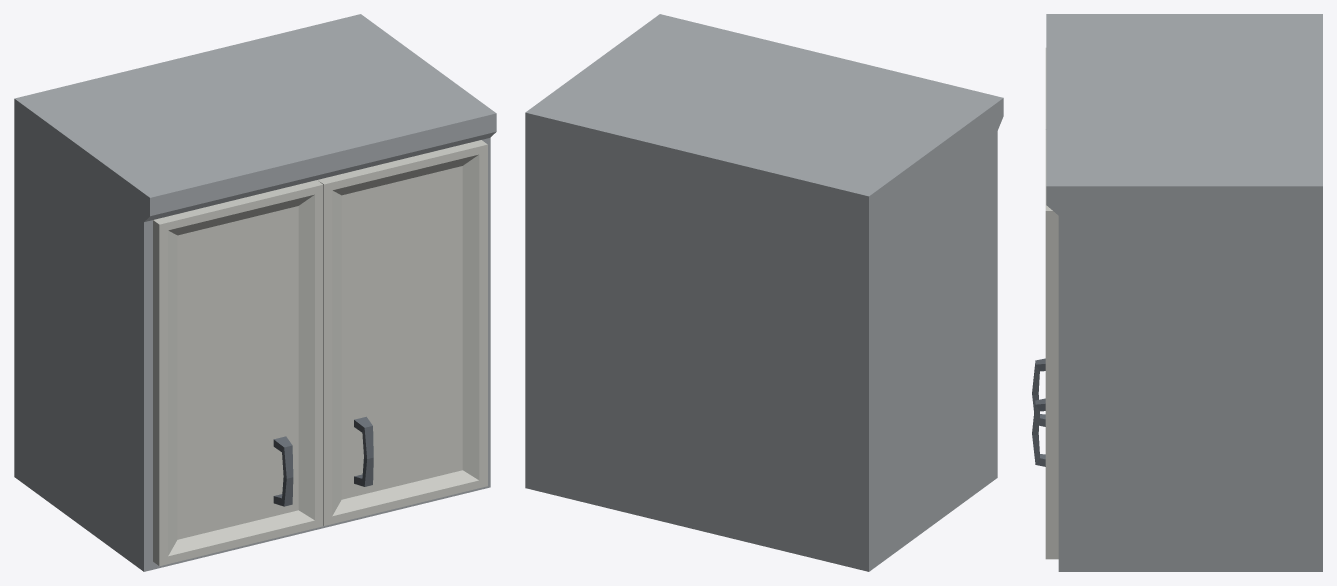
Rendered from Kitchen_Top_Cabinet.FBX.
3 renders of one model, left to right at view 1: azimuth 30°, elevation 25°; view 2: azimuth 150°, elevation 25°; view 3: azimuth 270°, elevation 25°, orthographic. The views are drawn at different scales.
Parts seen in each view (by area): view 1: Kitchen_Top_Cabinet; view 2: Kitchen_Top_Cabinet; view 3: Kitchen_Top_Cabinet.
Boxes of the visible parts, left/top/right/bottom form: Kitchen_Top_Cabinet: left=14, top=14, right=496, bottom=571; Kitchen_Top_Cabinet: left=525, top=14, right=1003, bottom=571; Kitchen_Top_Cabinet: left=1032, top=14, right=1322, bottom=571.
Size of the model in its own units: 100 by 104 by 71.3.
